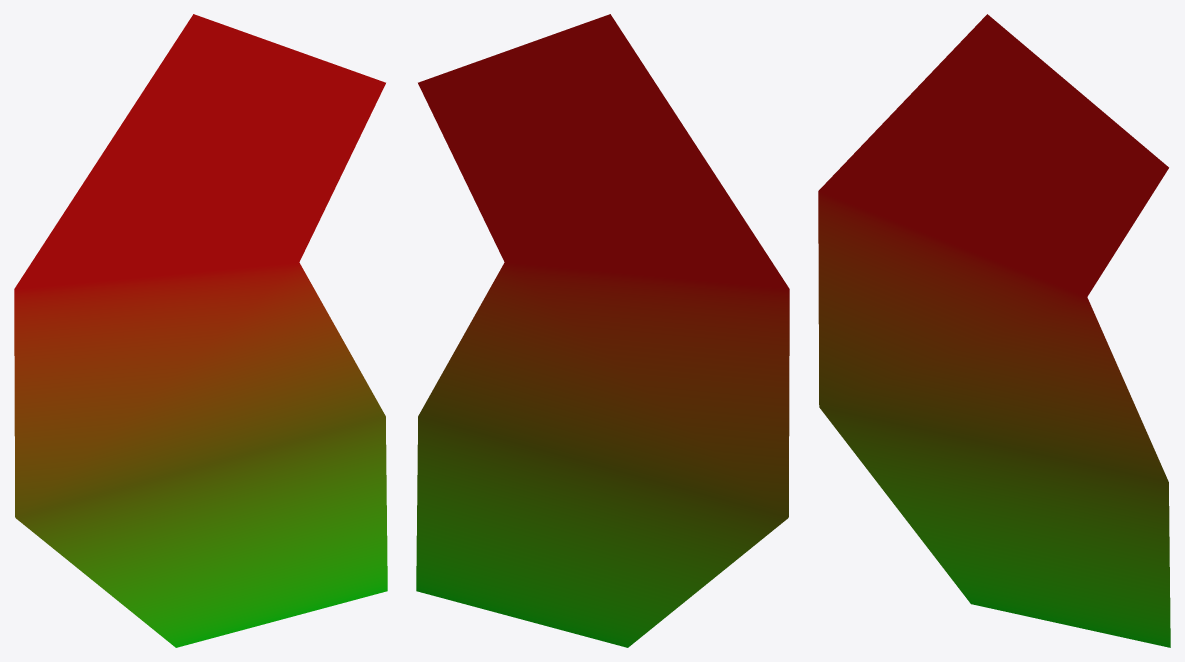
Rendered from Var5_LOD5.fbx.
3 renders of one model, left to right at view 1: azimuth 30°, elevation 25°; view 2: azimuth 150°, elevation 25°; view 3: azimuth 330°, elevation 25°, orthographic. The views are drawn at different scales.
Parts seen in each view (by area): view 1: _e69c_Var5_LOD5; view 2: _e69c_Var5_LOD5; view 3: _e69c_Var5_LOD5.
Boxes of the visible parts, x1,y1,x2,y2 form: _e69c_Var5_LOD5: (14, 14, 387, 647); _e69c_Var5_LOD5: (416, 14, 789, 647); _e69c_Var5_LOD5: (818, 14, 1170, 647).
Bounding box in the file's own units: 36.96 × 59.53 × 9.54e-07.
